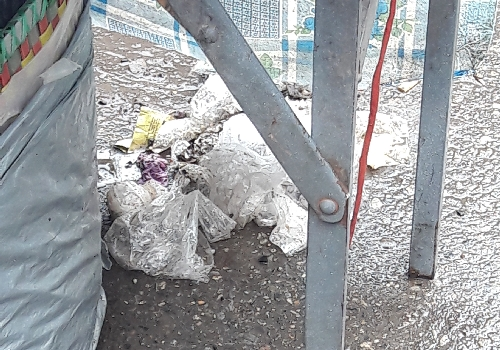trash: (95, 69, 321, 290)
